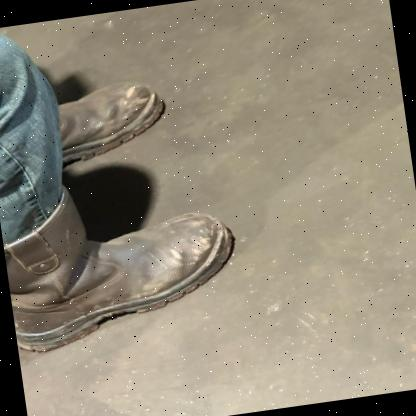bota: (0, 169, 271, 357), (27, 66, 190, 178)
